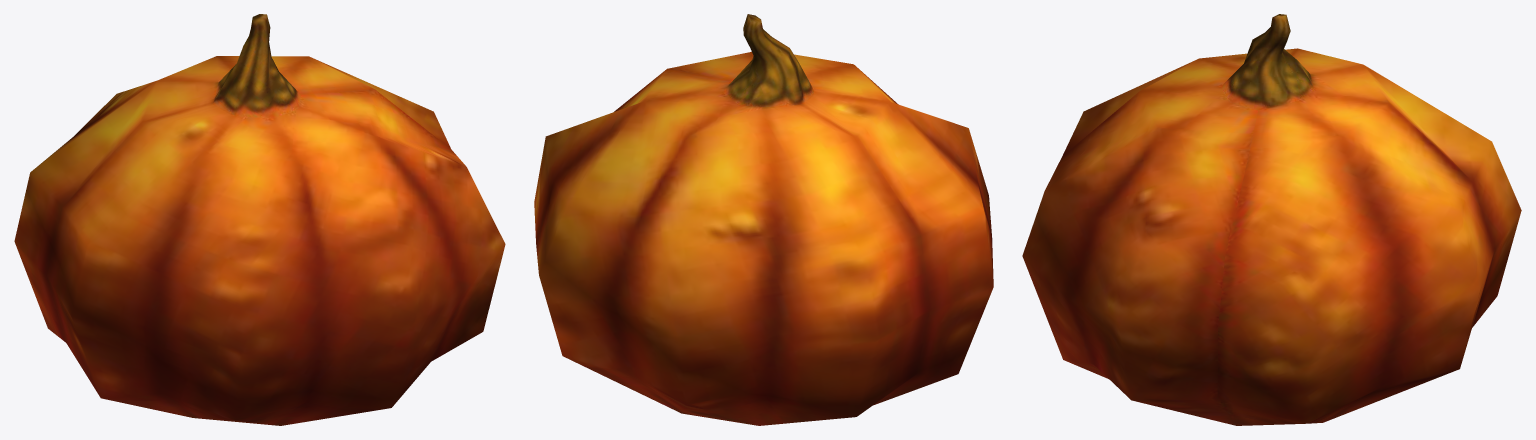
Rendered from SM_pumpkin_00.gltf.
3 views of the same model, side by side, from view 1: azimuth 30°, elevation 25°; view 2: azimuth 150°, elevation 25°; view 3: azimuth 270°, elevation 25° (orthographic). The views are drawn at different scales.
Parts seen in each view (by area): view 1: SM_pumpkin_00; view 2: SM_pumpkin_00; view 3: SM_pumpkin_00.
Part boxes in pixels (left/top/right/bottom): SM_pumpkin_00: left=14, top=14, right=505, bottom=425; SM_pumpkin_00: left=534, top=14, right=993, bottom=425; SM_pumpkin_00: left=1022, top=14, right=1521, bottom=425.
Bounding box in the file's own units: 0.4874 × 0.4139 × 0.4945.
1 material, 1 textured.
